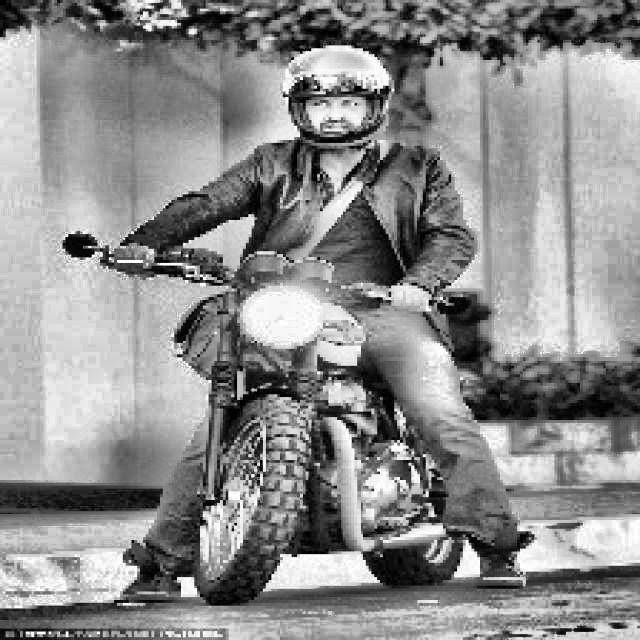motorcycle: (49, 225, 542, 602)
